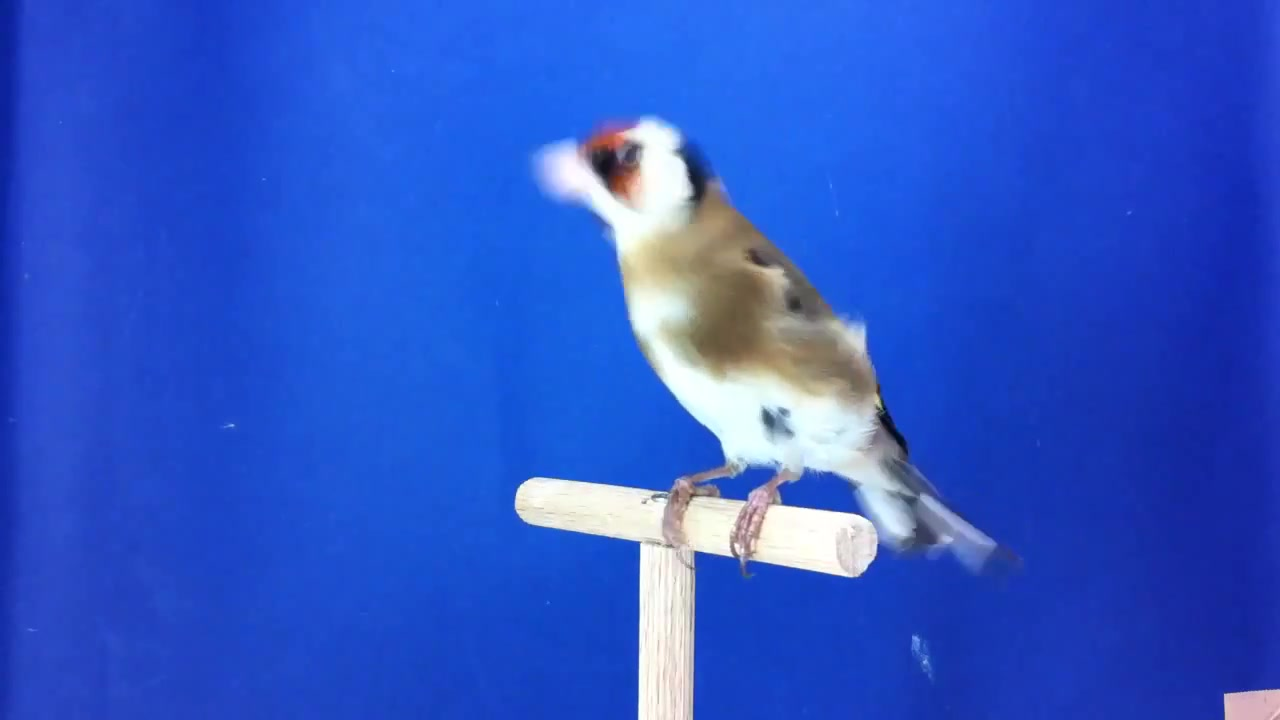bird: (529, 112, 1001, 580)
